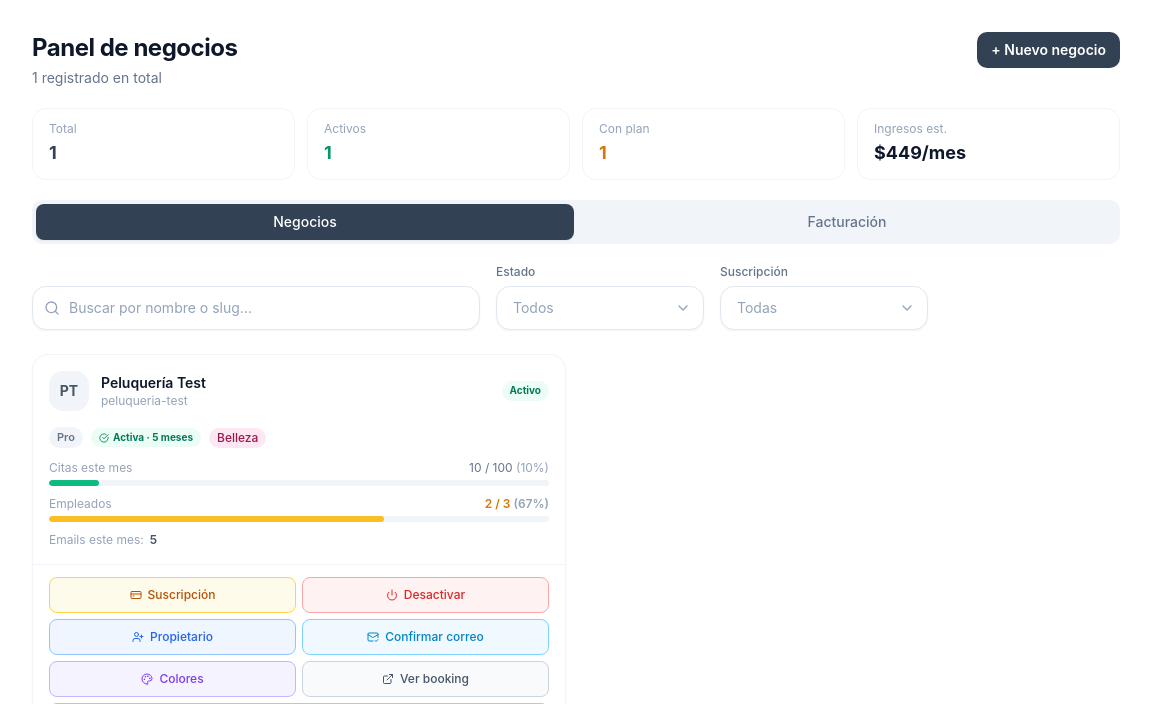
Test: ModalSuscripcion billing header › pre-fills monto with totalMensual when 1-month button clicked
Expected: the text "Peluquería Test" is shown, [101,374,206,391]
Click the button "Suscripción". click: (172, 595)
box: [49,577,296,613]
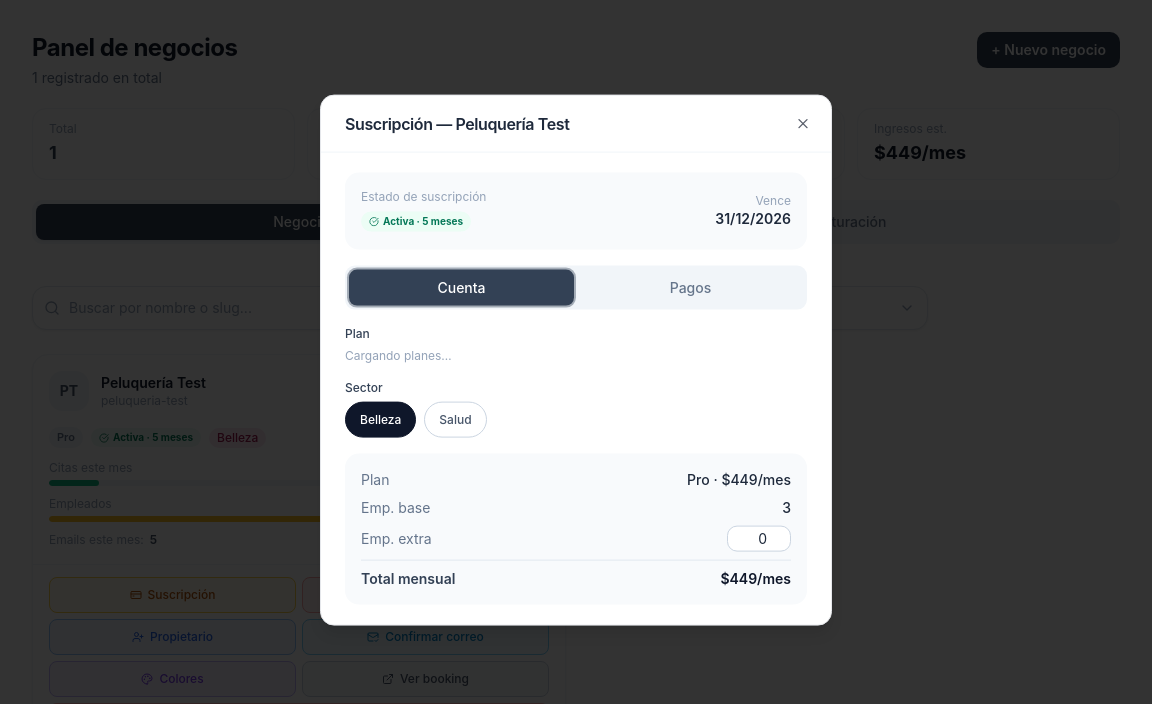
Now the button "Pagos" is shown
# Navigate to Pagos tab where the month buttons live
Click the button "Pagos". click: (690, 287)
box: [578,269,803,305]
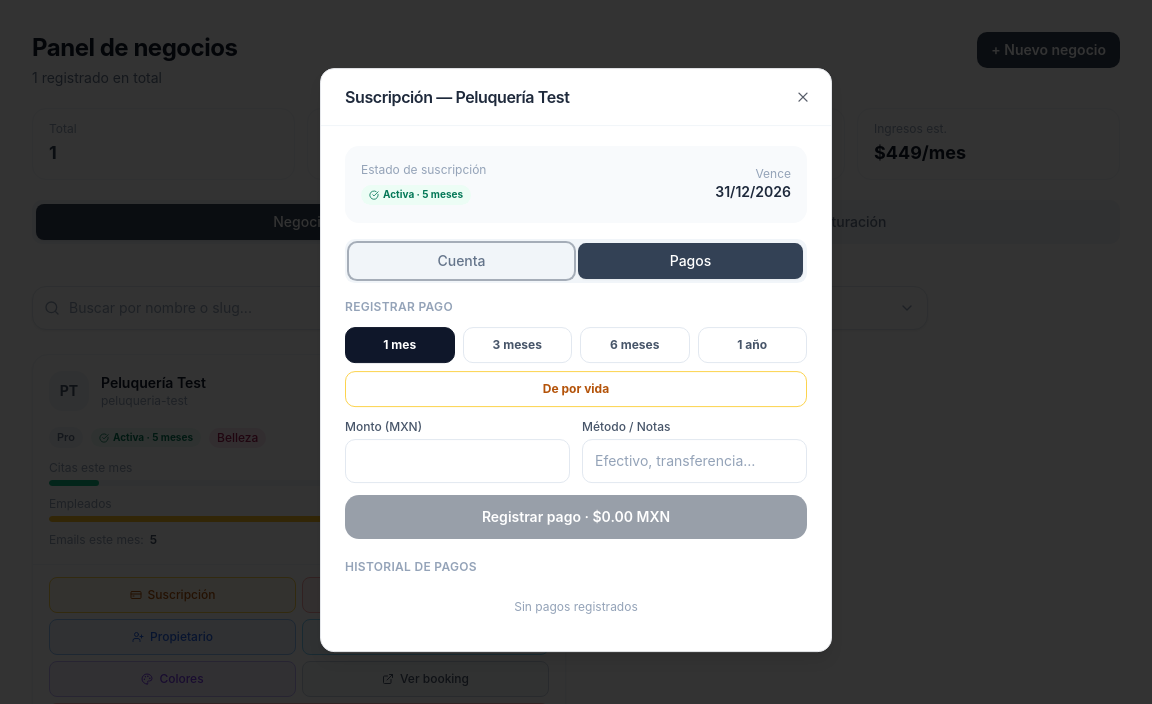
Now the button "1 mes" is shown
Click the button "1 mes". click: (400, 345)
box: [345,327,454,363]
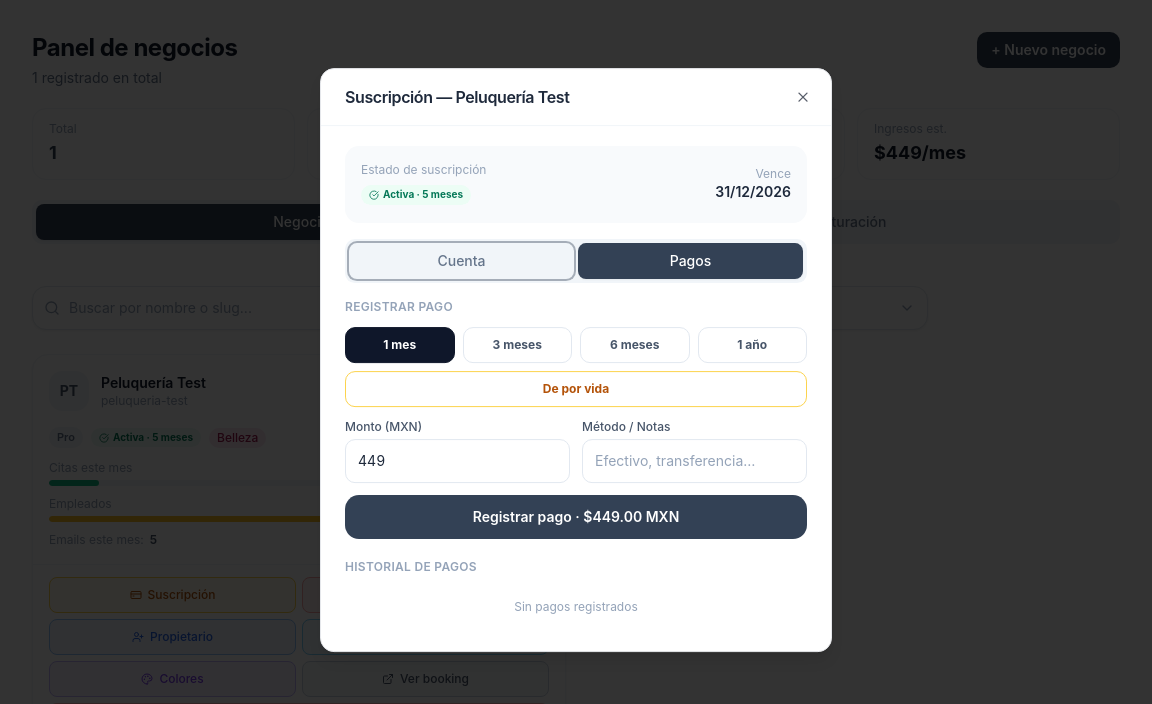
Now the field showing "449" is shown, box [345,439,570,483]
